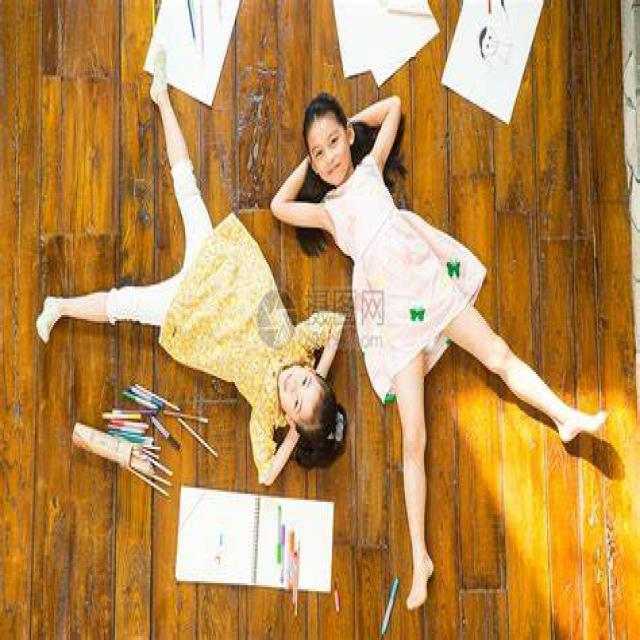lie: (299, 68, 551, 542), (74, 134, 353, 458)
